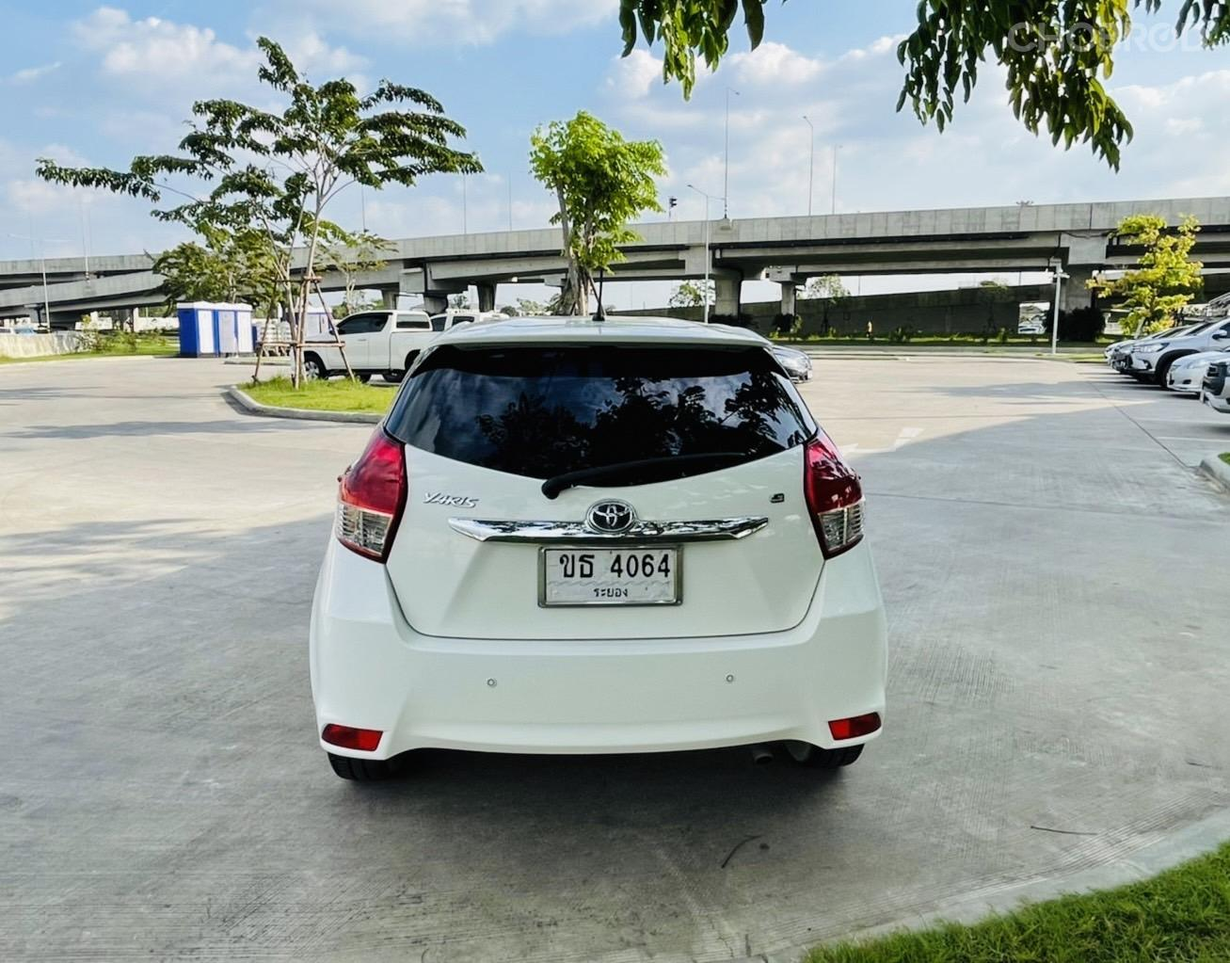license-plate: (537, 544, 686, 611)
